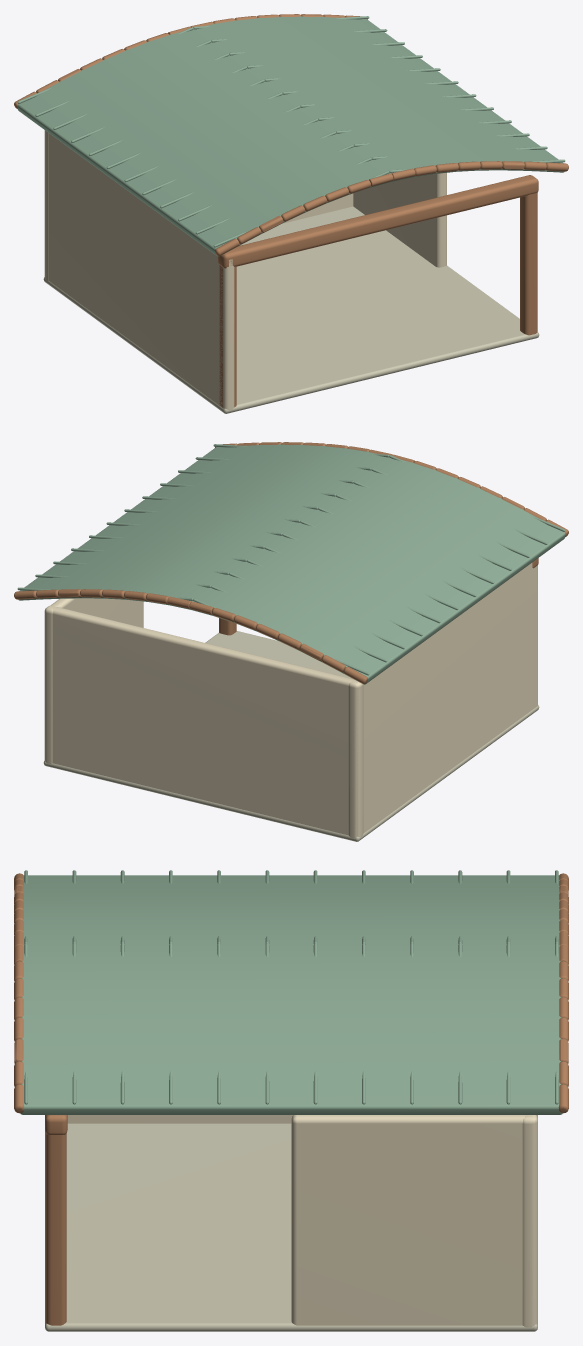
The model's file is pavilion.glb.
3 renders of one model, top to bottom at view 1: azimuth 30°, elevation 25°; view 2: azimuth 150°, elevation 25°; view 3: azimuth 270°, elevation 25°, orthographic. The views are drawn at different scales.
Visible parts, largest first — view 1: Roof_sage, Body_stone, Body_cream, Body_wood, Roof_wood; view 2: Body_cream, Roof_sage, Body_stone, Roof_wood; view 3: Roof_sage, Body_cream, Body_stone, Roof_wood, Body_wood.
Boxes of the visible parts, left/top/right/bottom form: Roof_sage: left=17, top=16, right=565, bottom=256; Body_stone: left=43, top=206, right=539, bottom=413; Body_cream: left=44, top=130, right=446, bottom=409; Body_wood: left=218, top=175, right=538, bottom=407; Roof_wood: left=14, top=14, right=568, bottom=255; Body_cream: left=44, top=563, right=537, bottom=837; Roof_sage: left=17, top=444, right=565, bottom=684; Body_stone: left=43, top=631, right=539, bottom=841; Roof_wood: left=14, top=442, right=568, bottom=683; Roof_sage: left=20, top=870, right=562, bottom=1114; Body_cream: left=67, top=1115, right=537, bottom=1327; Body_stone: left=45, top=1123, right=537, bottom=1331; Roof_wood: left=14, top=873, right=568, bottom=1113; Body_wood: left=45, top=1115, right=67, bottom=1325.
Size of the model in its own units: 5.86 by 3.37 by 5.91.
